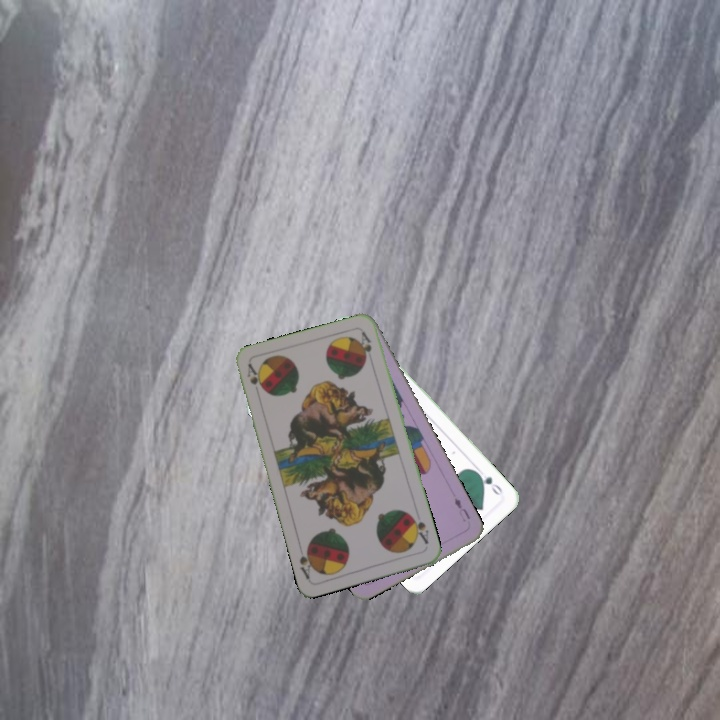EU: (450, 494, 473, 525)
GO: (472, 468, 505, 498)
SA: (243, 360, 267, 400), (407, 511, 431, 547)
